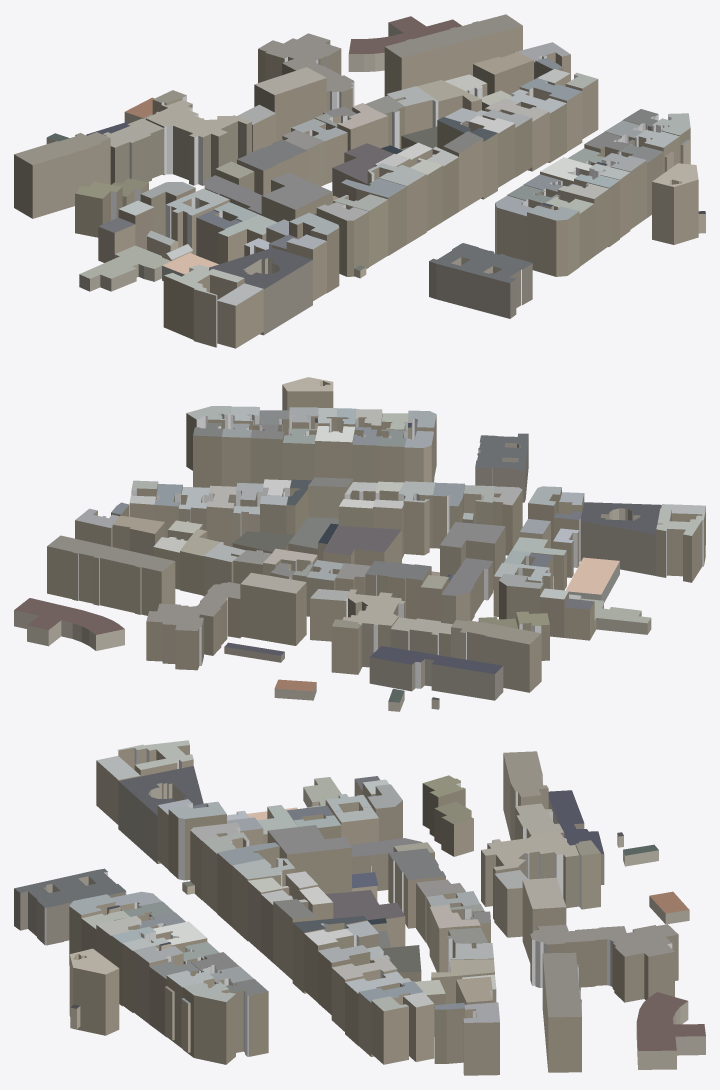
3 views of the same model, one above another, from view 1: azimuth 30°, elevation 25°; view 2: azimuth 150°, elevation 25°; view 3: azimuth 270°, elevation 25° (orthographic). The views are drawn at different scales.
Parts seen in each view (by area): view 1: tuile; view 2: tuile; view 3: tuile.
Part boxes in pixels (box(x1,y1,x2,y2)): tuile: box(14, 14, 705, 348); tuile: box(14, 377, 705, 711); tuile: box(14, 740, 705, 1075).
Size of the model in its own units: 280 by 38.14 by 283.
